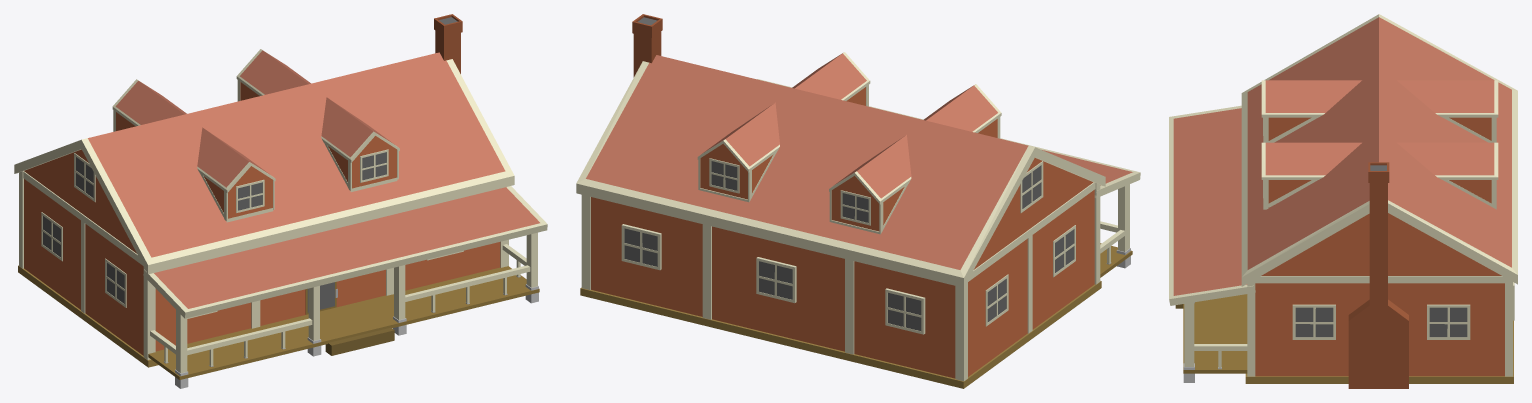
File: houses3.fbx
3 views of the same model, side by side, from view 1: azimuth 30°, elevation 25°; view 2: azimuth 150°, elevation 25°; view 3: azimuth 270°, elevation 25° (orthographic). The views are drawn at different scales.
Parts seen in each view (by area): view 1: Cube_3; view 2: Cube_3; view 3: Cube_3.
Boxes of the visible parts, left/top/right/bottom form: Cube_3: left=14, top=14, right=547, bottom=388; Cube_3: left=576, top=14, right=1140, bottom=388; Cube_3: left=1169, top=14, right=1517, bottom=388.
Size of the model in its own units: 1290 by 693 by 1006.
